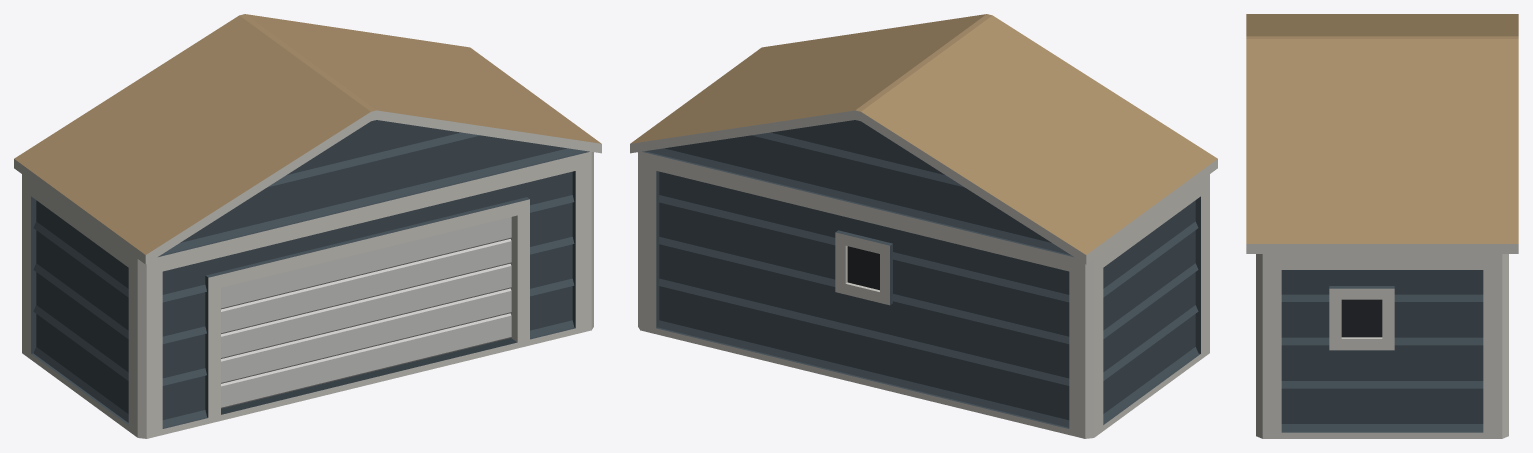
Rendered from detached-garage-38a178.glb.
3 renders of one model, left to right at view 1: azimuth 30°, elevation 25°; view 2: azimuth 150°, elevation 25°; view 3: azimuth 270°, elevation 25°, orthographic. The views are drawn at different scales.
Parts seen in each view (by area): view 1: shell, door; view 2: shell; view 3: shell.
Boxes of the visible parts, x1,y1,x2,y2 form: shell: (14,14,601,438); door: (221,217,511,408); shell: (630,14,1217,438); shell: (1246,14,1518,438).
Size of the model in its own units: 8 by 4.64 by 4.
